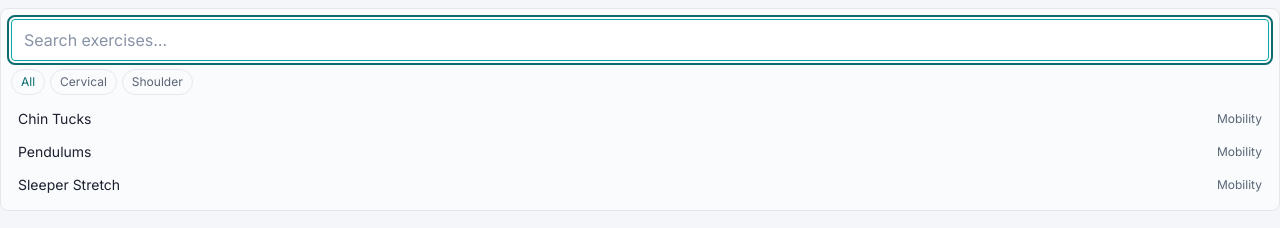
ExercisePicker › filters by region chip
What coordinates should you click on to do the following:
click the button "Cervical"
I would click on:
 (83, 82)
Its box is [50,69,117,95].
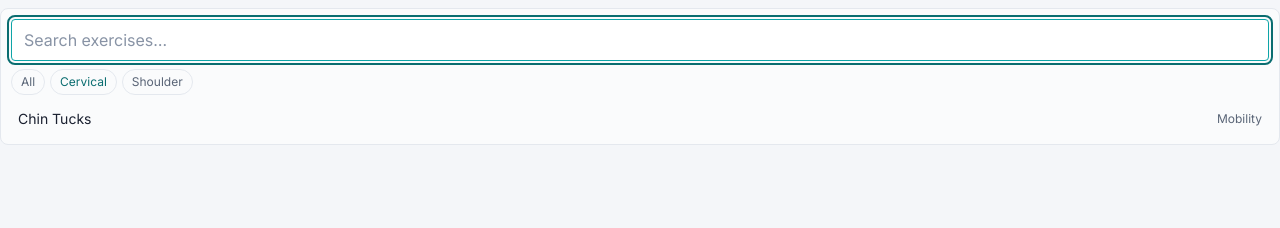
Check: the text "Chin Tucks" is shown, box [18,108,92,129]
Check: the button "Pendulums" is gone
